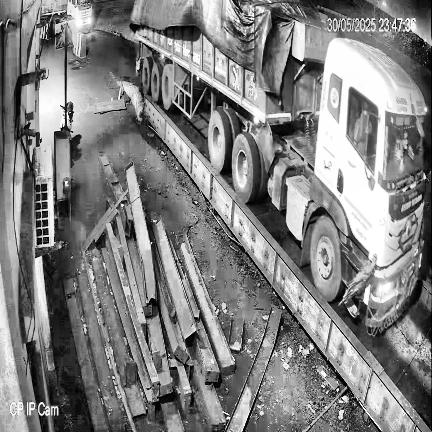tyre: (310, 216, 341, 302), (232, 133, 261, 202), (208, 107, 232, 172), (256, 152, 268, 202), (225, 107, 241, 143), (162, 65, 173, 110), (151, 62, 163, 103), (142, 57, 153, 96)
